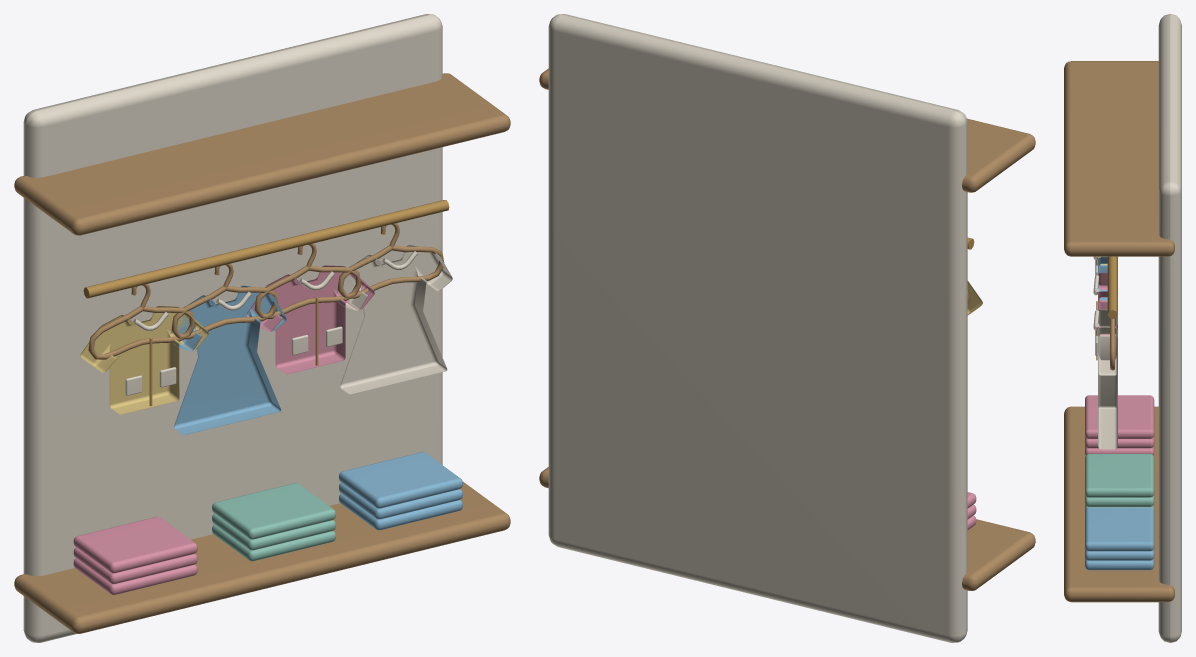
File: cl_wall.glb
The picture shows the model from 3 angles, left to right: view 1: azimuth 30°, elevation 25°; view 2: azimuth 150°, elevation 25°; view 3: azimuth 270°, elevation 25°; orthographic projection. The views are drawn at different scales.
Parts seen in each view (by area): view 1: prop; view 2: prop; view 3: prop.
Part boxes in pixels (x1,y1,x2,y2): prop: [14, 14, 510, 642]; prop: [539, 14, 1035, 642]; prop: [1064, 14, 1181, 642].
Bounding box in the file's own units: 1.9 × 2.2 × 0.51.
